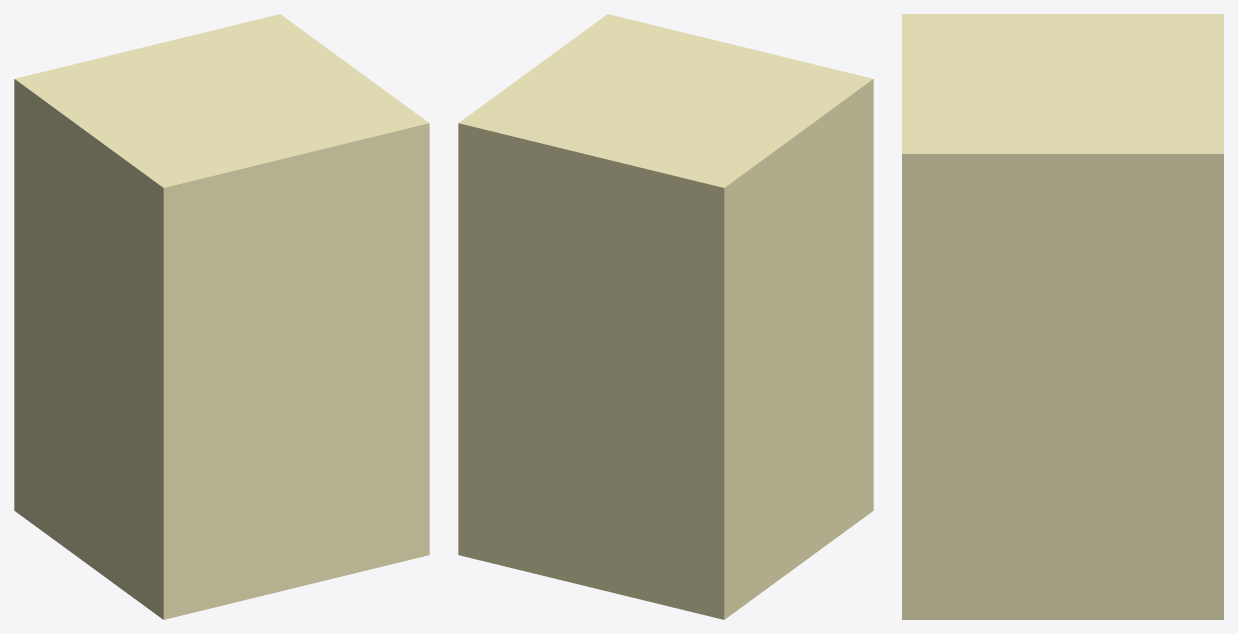
File: Itr_Obj_Smallstickynote_Box_02.FBX
3 renders of one model, left to right at view 1: azimuth 30°, elevation 25°; view 2: azimuth 150°, elevation 25°; view 3: azimuth 270°, elevation 25°, orthographic. The views are drawn at different scales.
Parts seen in each view (by area): view 1: Itr_Obj_Smallstickynote_Box_02; view 2: Itr_Obj_Smallstickynote_Box_02; view 3: Itr_Obj_Smallstickynote_Box_02.
Boxes of the visible parts, x1,y1,x2,y2 form: Itr_Obj_Smallstickynote_Box_02: (14,14,429,619); Itr_Obj_Smallstickynote_Box_02: (458,14,873,619); Itr_Obj_Smallstickynote_Box_02: (902,14,1223,619).
Size of the model in its own units: 0.8876 by 1.38 by 0.8625.
